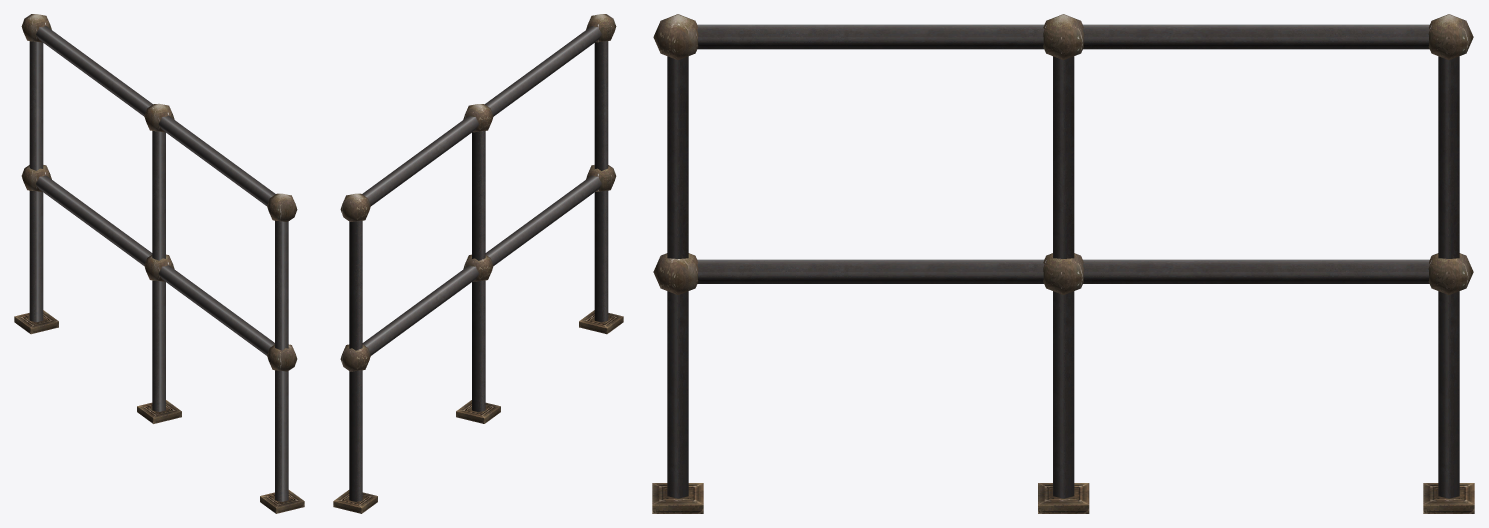
The model's file is railings_factory_2m.DAE.
The picture shows the model from 3 angles, left to right: view 1: azimuth 30°, elevation 25°; view 2: azimuth 150°, elevation 25°; view 3: azimuth 270°, elevation 25°; orthographic projection. The views are drawn at different scales.
Parts seen in each view (by area): view 1: Object041; view 2: Object041; view 3: Object041.
Part boxes in pixels (x1,y1,x2,y2): Object041: [14, 14, 304, 513]; Object041: [333, 14, 623, 513]; Object041: [652, 14, 1474, 513].
Bounding box in the file's own units: 0.125 × 1.31 × 2.
